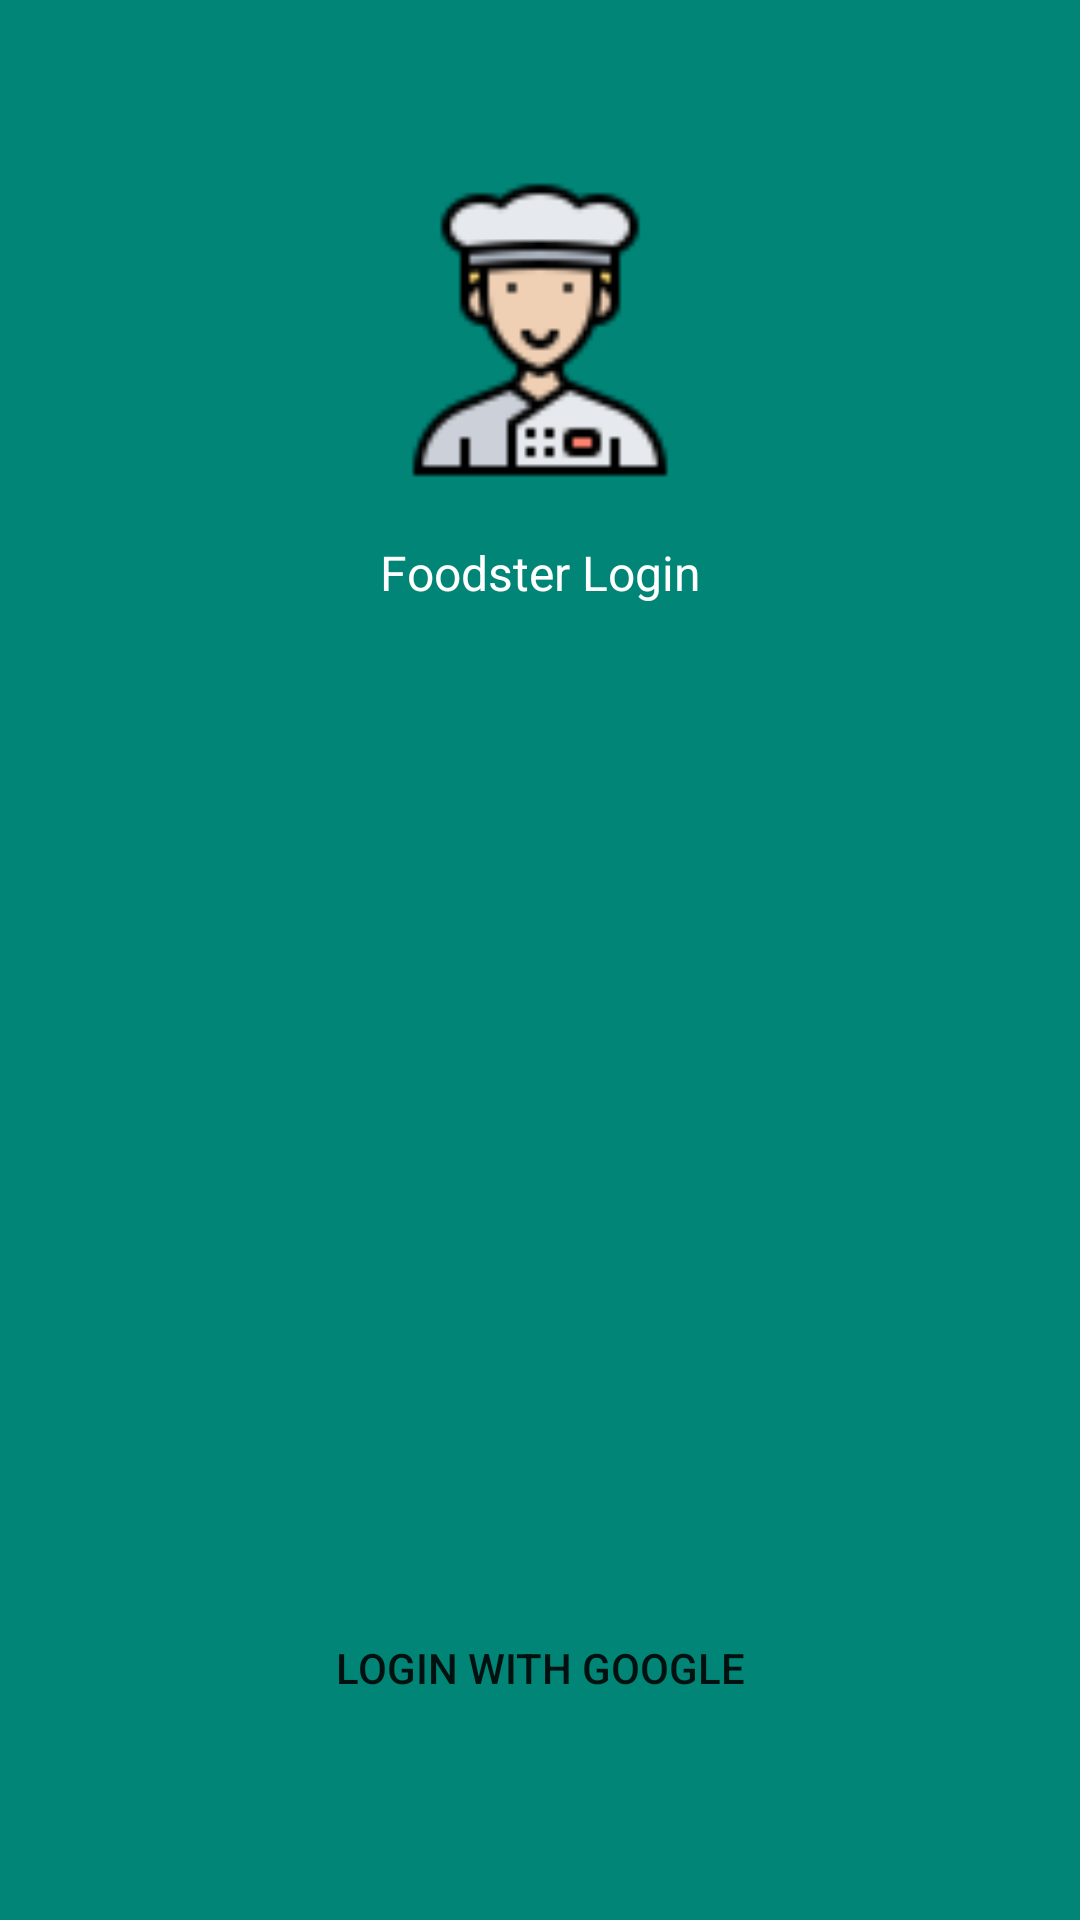

Screen size 1080x1920. Icon name, then its box in pixels as (x1, y1, x2, y2):
chef: (412, 183, 668, 477)
